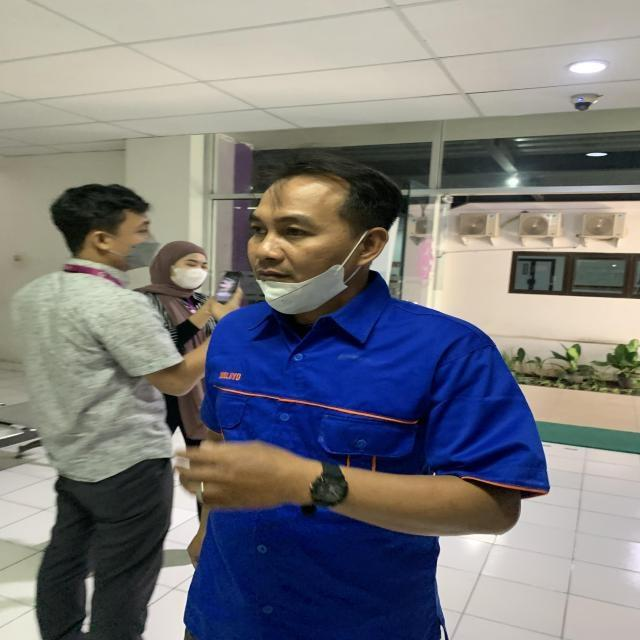hairnet: (243, 154, 403, 322)
